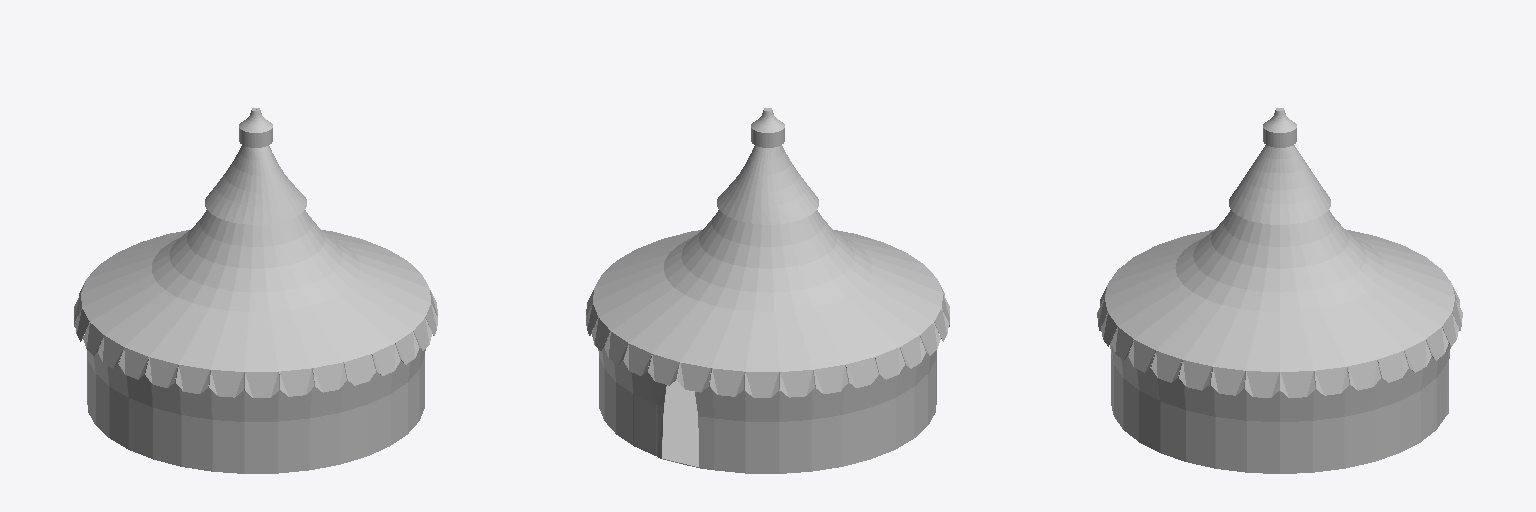
File: CR_circusTentTest.obj
The picture shows the model from 3 angles: view 1: azimuth 30°, elevation 25°; view 2: azimuth 150°, elevation 25°; view 3: azimuth 270°, elevation 25°; orthographic projection.
Parts seen in each view (by area): view 1: Object_4; view 2: Object_4; view 3: Object_4.
Boxes of the visible parts, box(x1,y1,x2,y2) form: Object_4: box(74, 108, 437, 473); Object_4: box(586, 108, 949, 473); Object_4: box(1097, 108, 1462, 473).
Size of the model in its own units: 9.72 by 8.6 by 9.72.